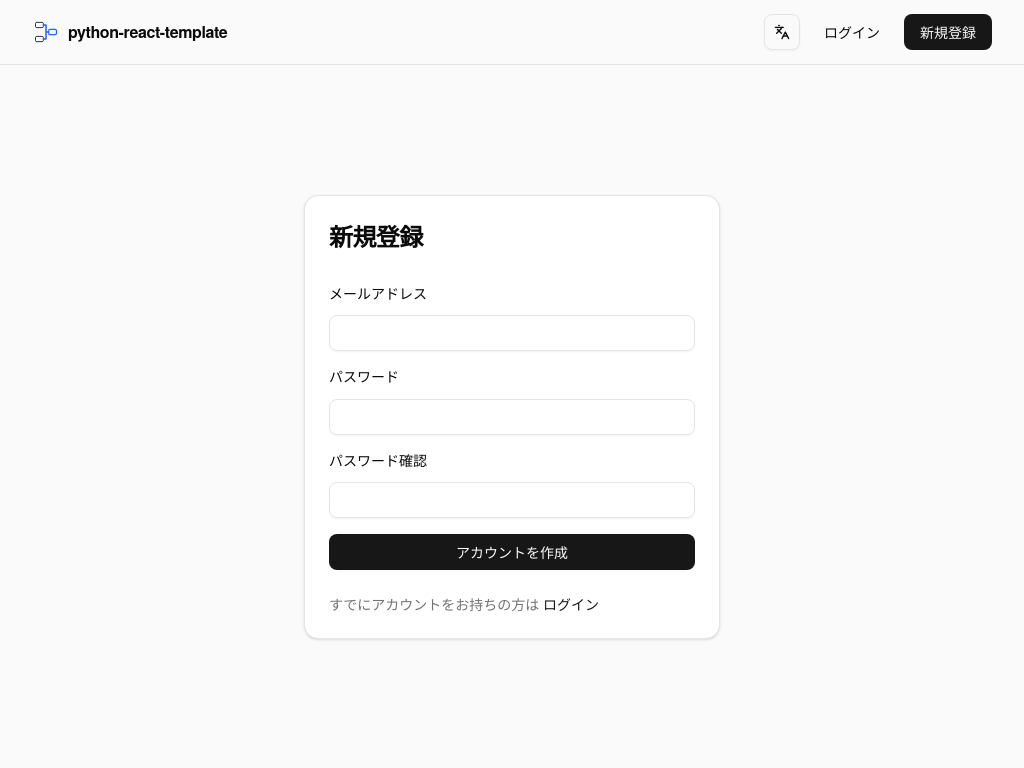
Test: register 成功後は redirect 先へ遷移し auth cache を同期する
The width and height of the screenshot is (1024, 768).
Type "user@example.com" into the field labelled "メールアドレス" at (512, 333), box left=329, top=315, right=695, bottom=351
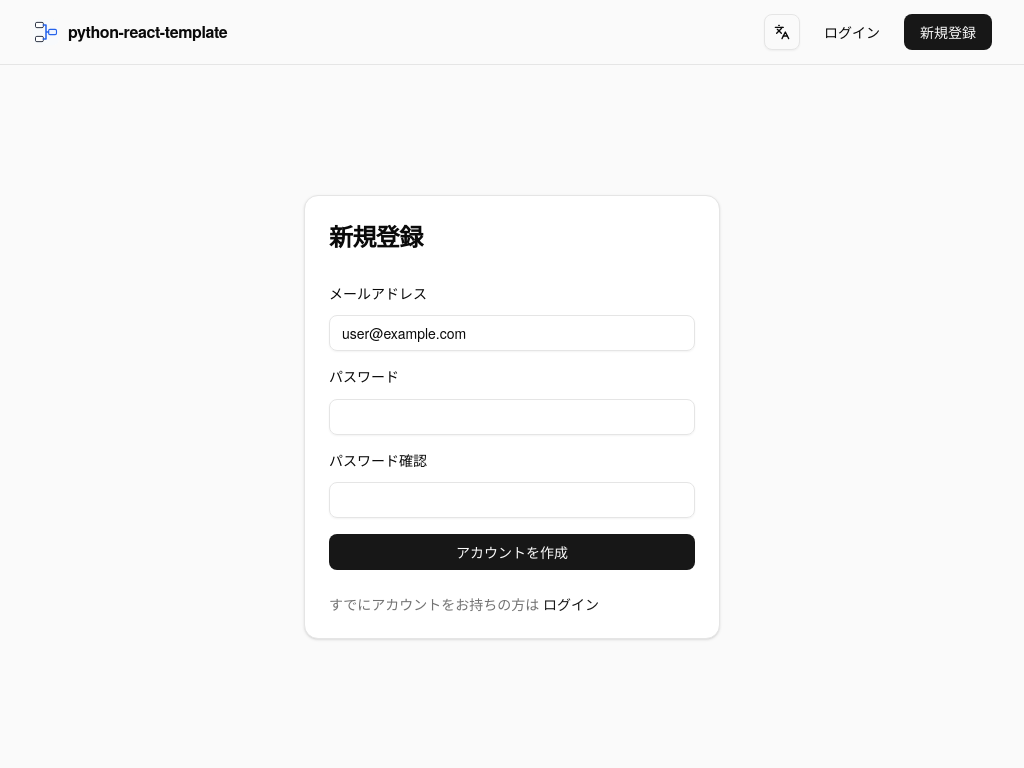
Type "Password123!" into the password field labelled "パスワード" at (512, 417), box left=329, top=399, right=695, bottom=435
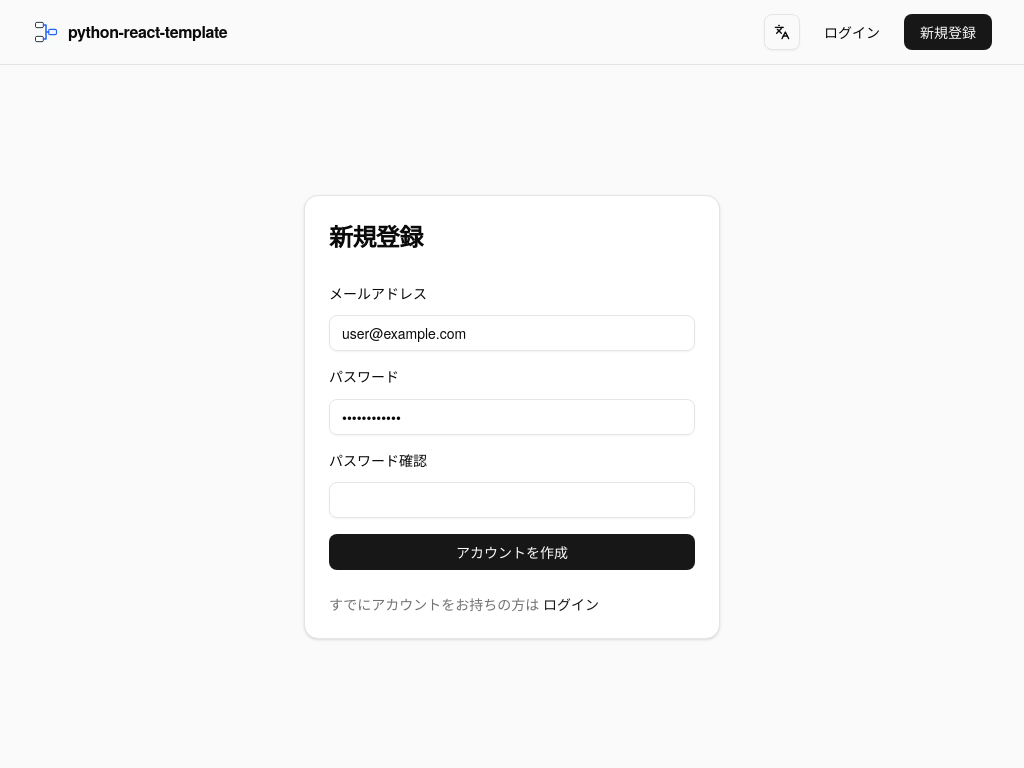
Type "Password123!" into the password field labelled "パスワード確認" at (512, 500), box left=329, top=482, right=695, bottom=518
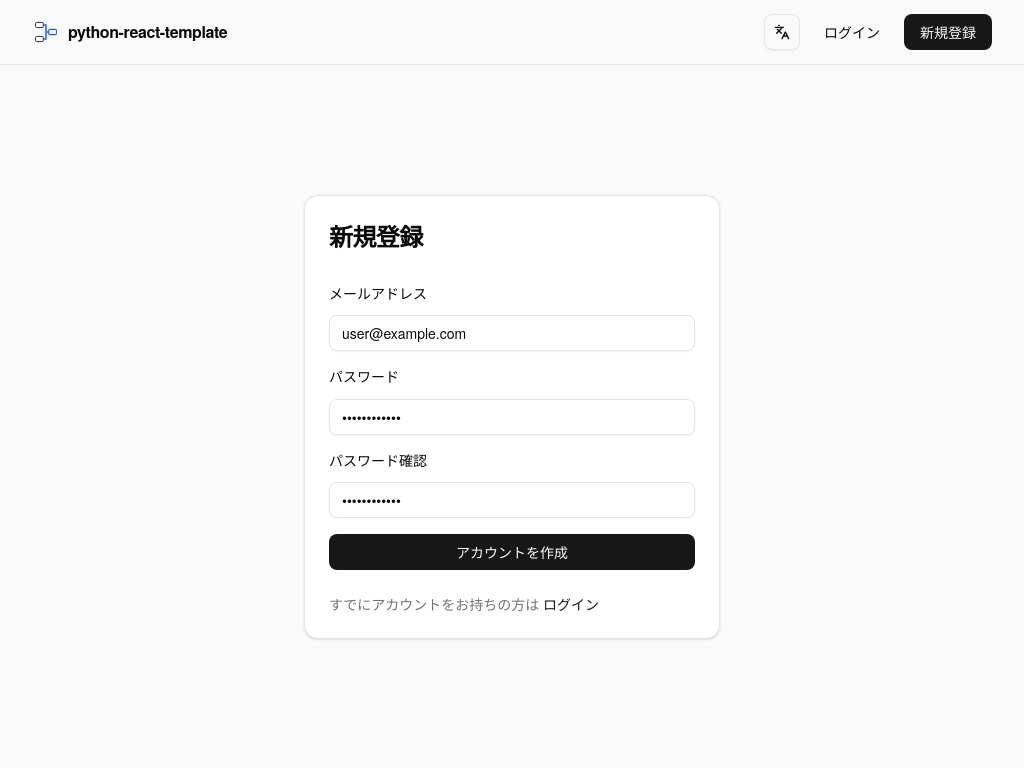
Click the button "アカウントを作成" at (512, 552), box left=329, top=534, right=695, bottom=570
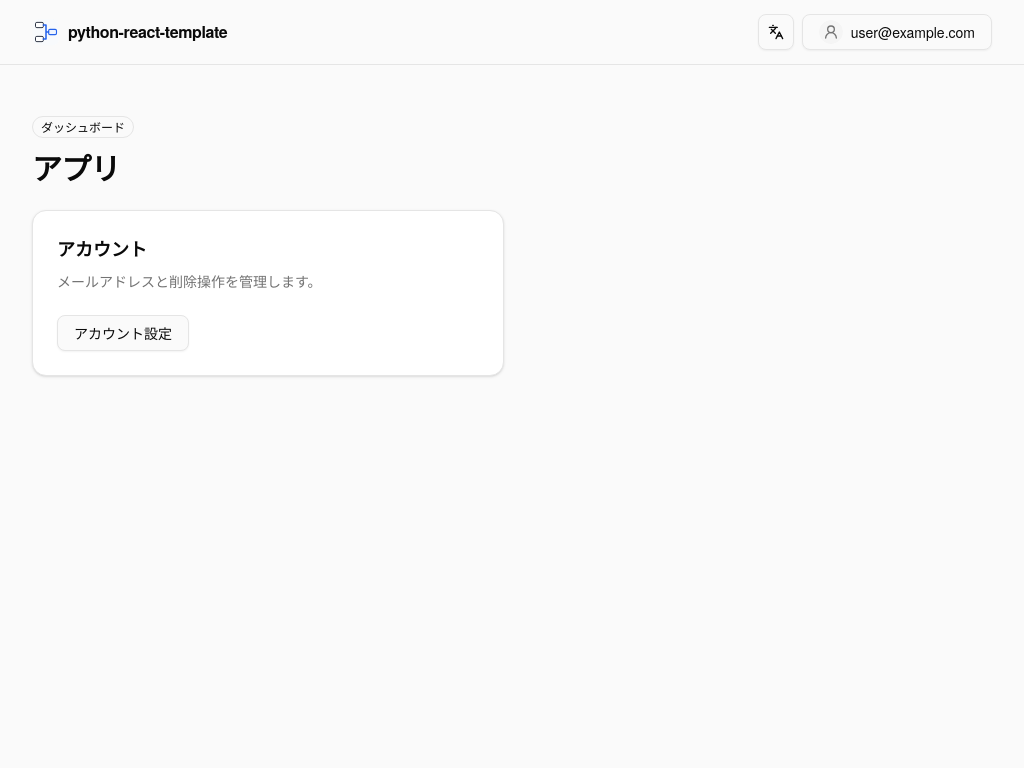
Expected: the heading "アプリ" is shown, left=32, top=146, right=120, bottom=189
